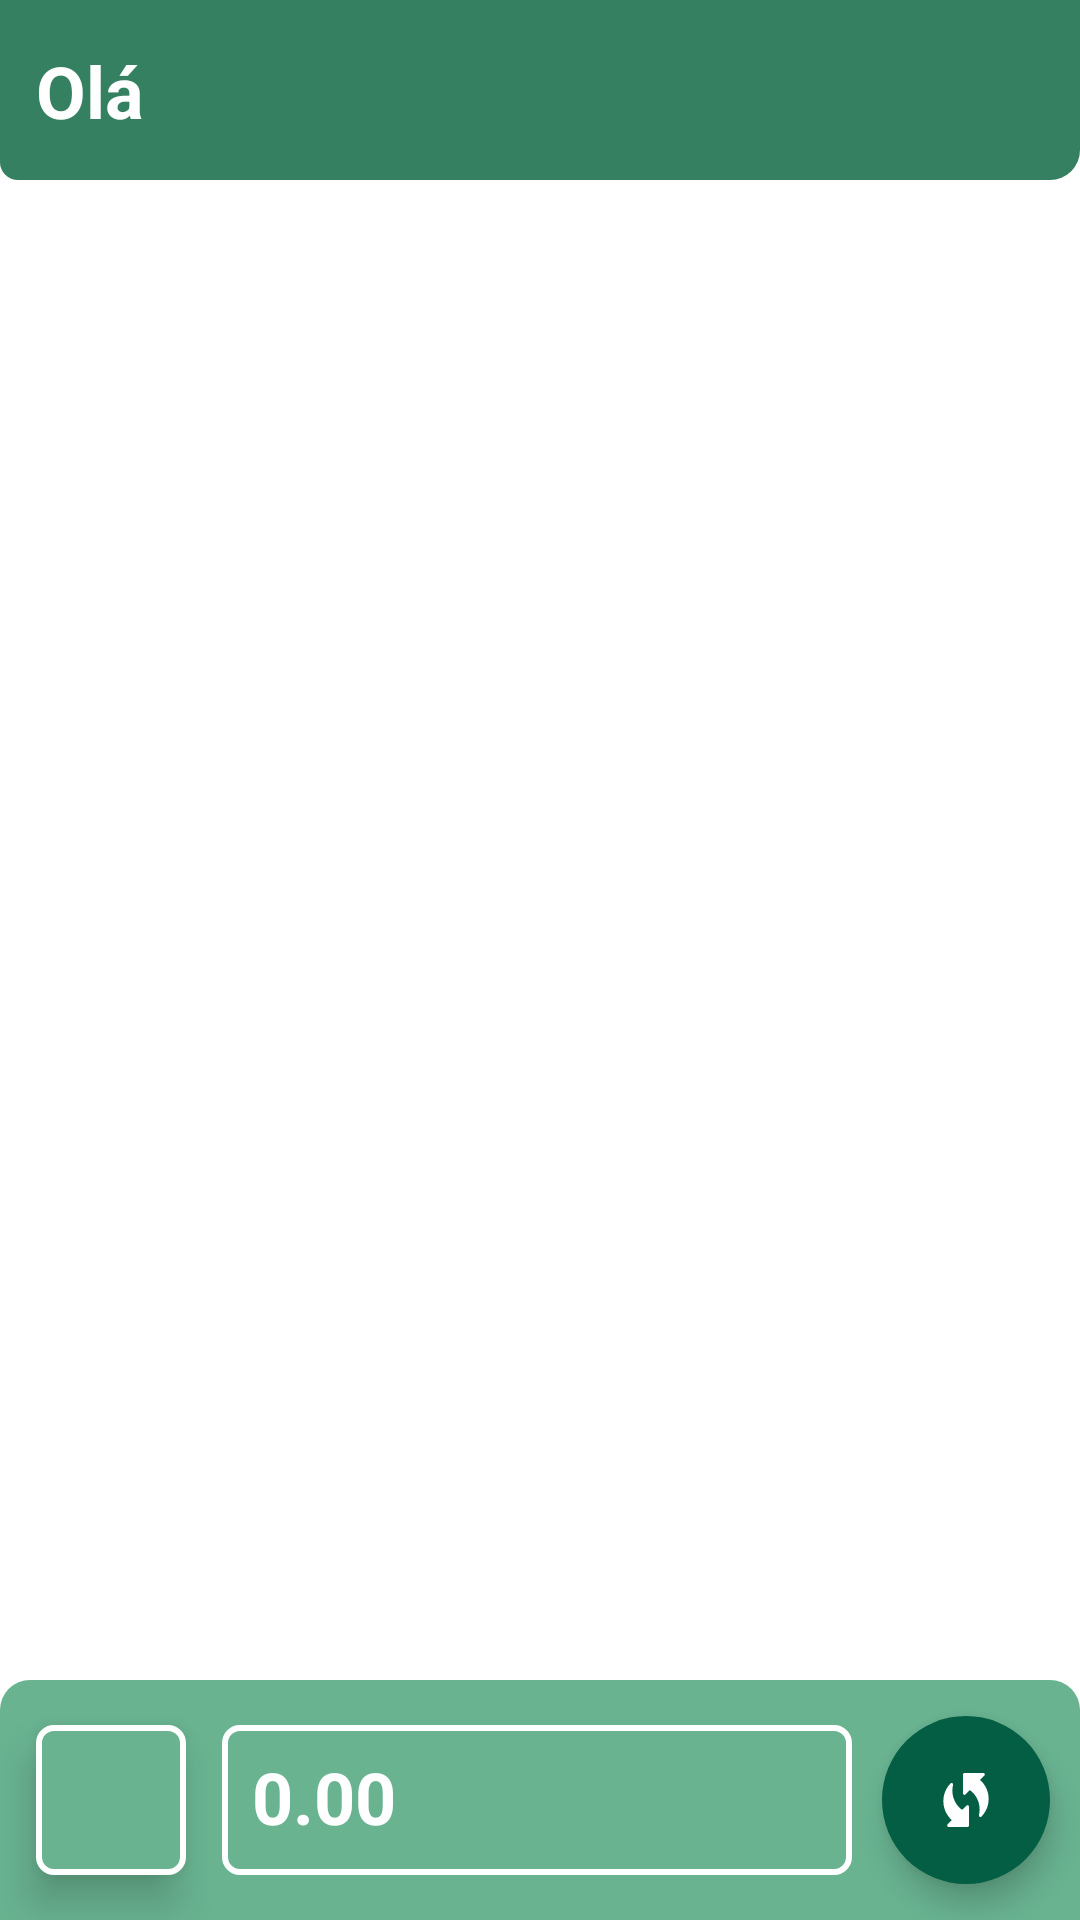

Screen size 1080px x 1920px. Icon name, then its center in pixels as point (x, y):
convert: point (966, 1800)
